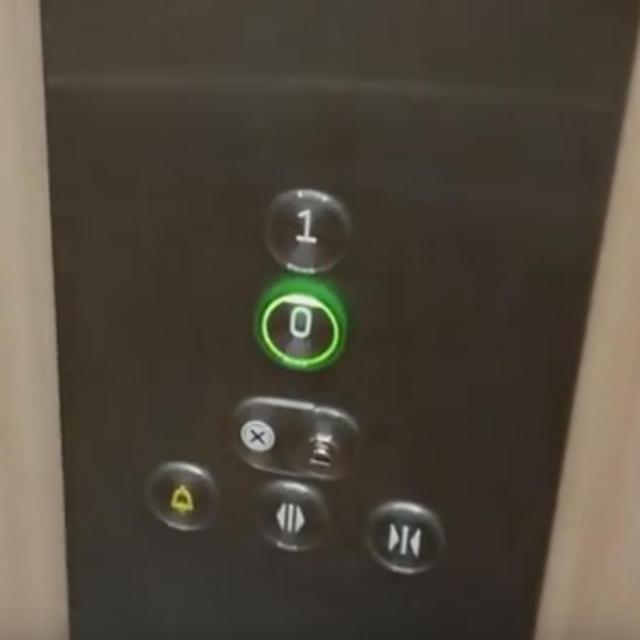0: (252, 278, 348, 372)
1: (261, 185, 353, 276)
alarm: (143, 458, 220, 538)
close: (361, 495, 446, 580)
open: (250, 480, 329, 557)
stop: (226, 391, 368, 480)
